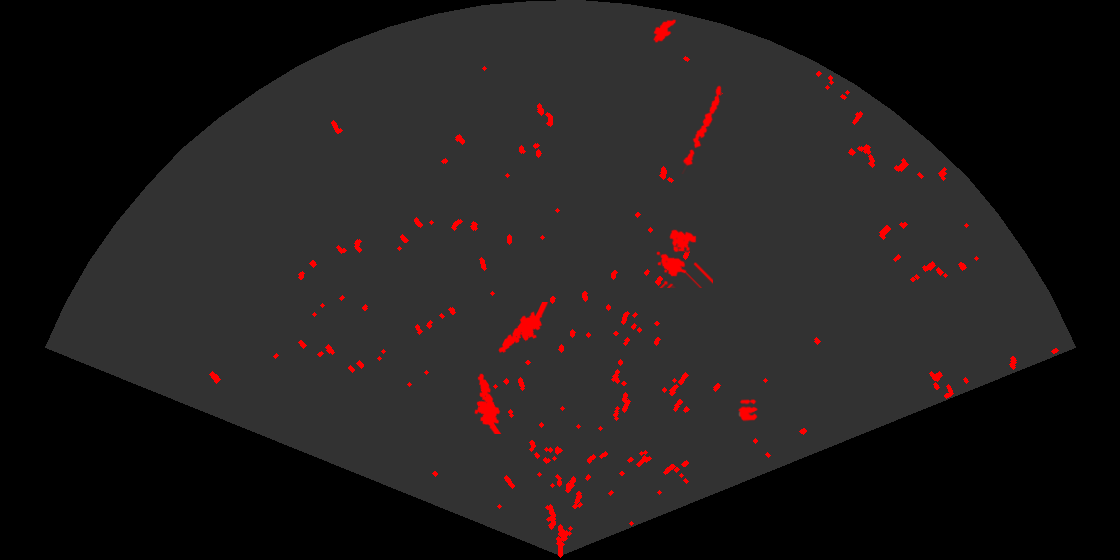AUV: (652, 18, 678, 44)
ball: (736, 398, 760, 423)
cage: (655, 228, 713, 288)
chain: (680, 84, 723, 174)
frogman: (497, 302, 550, 355), (473, 372, 503, 434)
